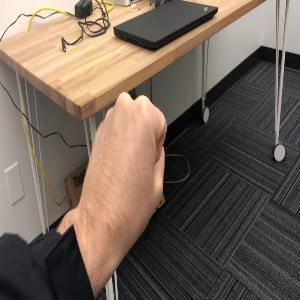hand: (82, 91, 165, 235)
